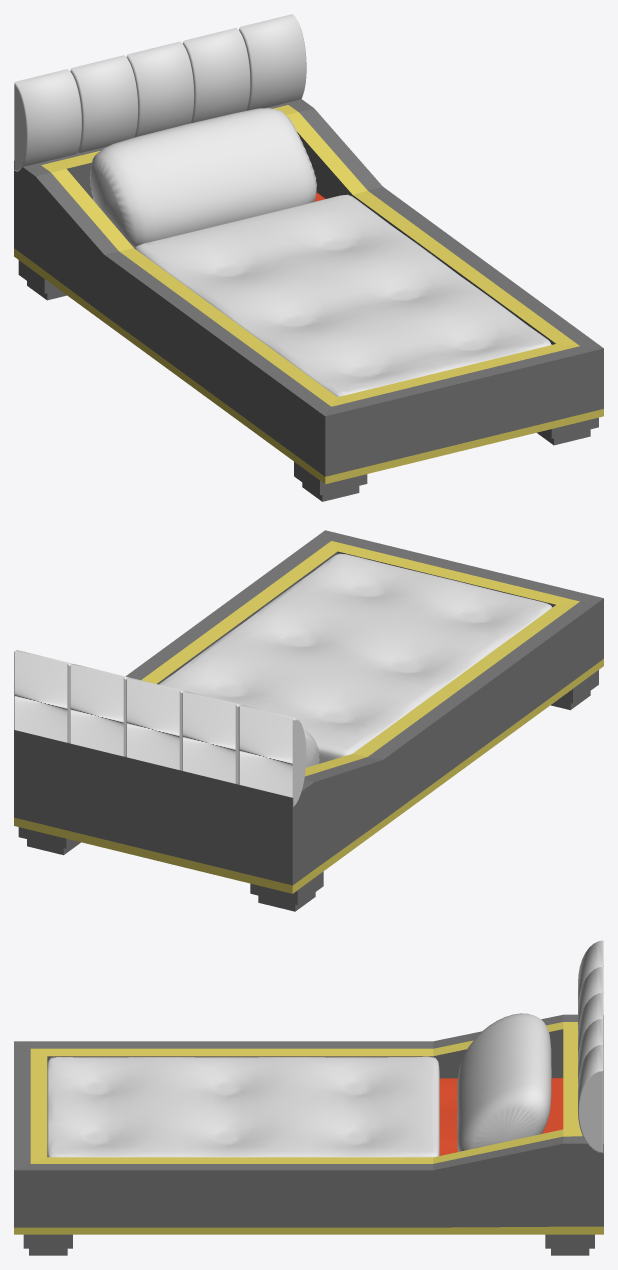
File: bed_tier16.fbx
3 renders of one model, top to bottom at view 1: azimuth 30°, elevation 25°; view 2: azimuth 150°, elevation 25°; view 3: azimuth 270°, elevation 25°, orthographic. The views are drawn at different scales.
Visible parts, largest first — view 1: Cube.001, Cube, Cylinder.004, Cube.002, Cube.003, Cube.004; view 2: Cube, Cube.001, Cube.004, Cube.005, Cube.002; view 3: Cube, Cube.001, Cylinder.004, Cube.006, Cube.005, Cube.003.
Part boxes in pixels (bbox=[...]): Cube.001: bbox=[14, 14, 551, 396]; Cube: bbox=[14, 99, 603, 484]; Cylinder.004: bbox=[89, 108, 316, 248]; Cube.002: bbox=[294, 461, 367, 501]; Cube.003: bbox=[537, 417, 598, 445]; Cube.004: bbox=[18, 260, 66, 300]; Cube: bbox=[14, 530, 603, 893]; Cube.001: bbox=[14, 553, 552, 806]; Cube.004: bbox=[250, 871, 323, 911]; Cube.005: bbox=[18, 827, 80, 855]; Cube.002: bbox=[551, 670, 598, 710]; Cube: bbox=[14, 1014, 603, 1234]; Cube.001: bbox=[47, 940, 603, 1157]; Cylinder.004: bbox=[457, 1013, 551, 1151]; Cube.006: bbox=[439, 1078, 563, 1155]; Cube.005: bbox=[545, 1234, 594, 1255]; Cube.003: bbox=[23, 1234, 72, 1255].
Bounding box in the file's own units: 190 × 129 × 365.
